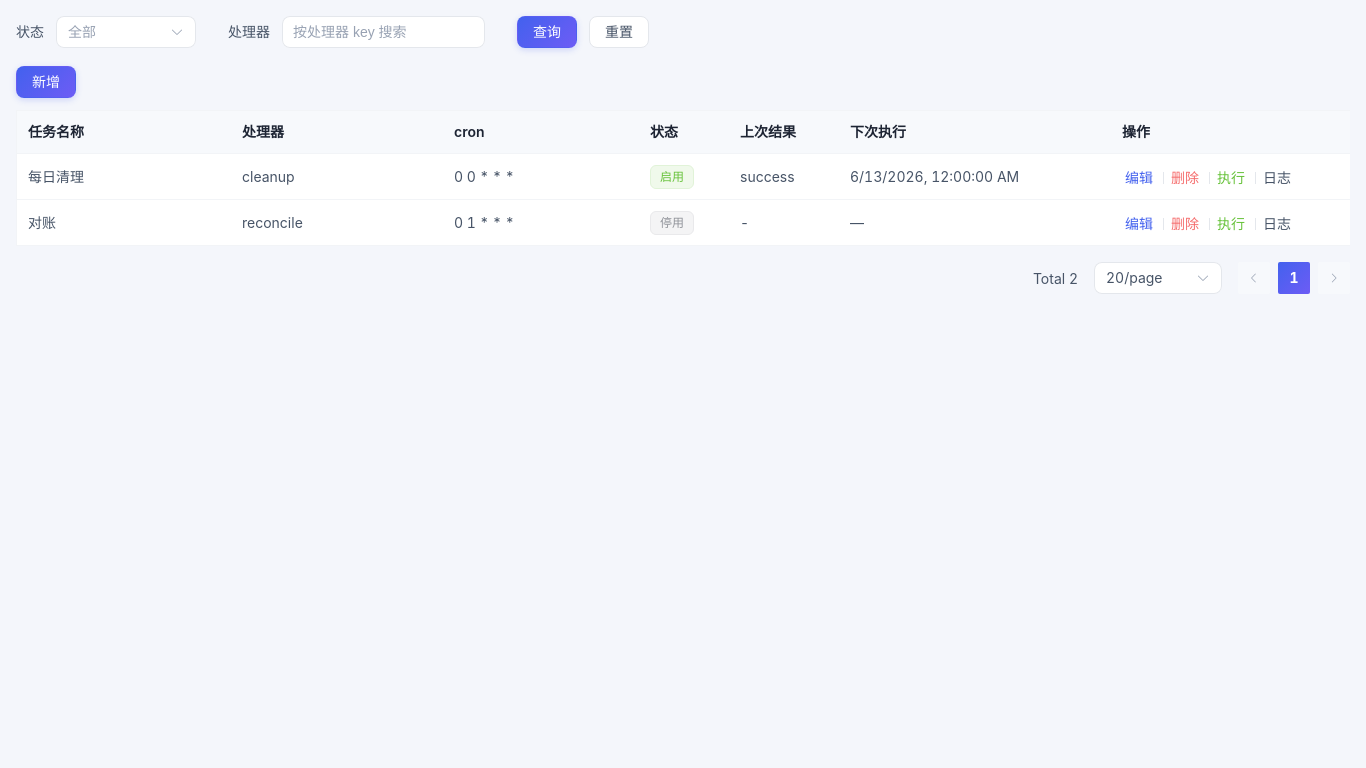
Test: 定时任务管理页 › 点日志 → 打开执行日志对话框并拉该任务日志
Step 1. Click the button "日志" in the row of "每日清理" → (1277, 178), box left=1260, top=168, right=1294, bottom=188
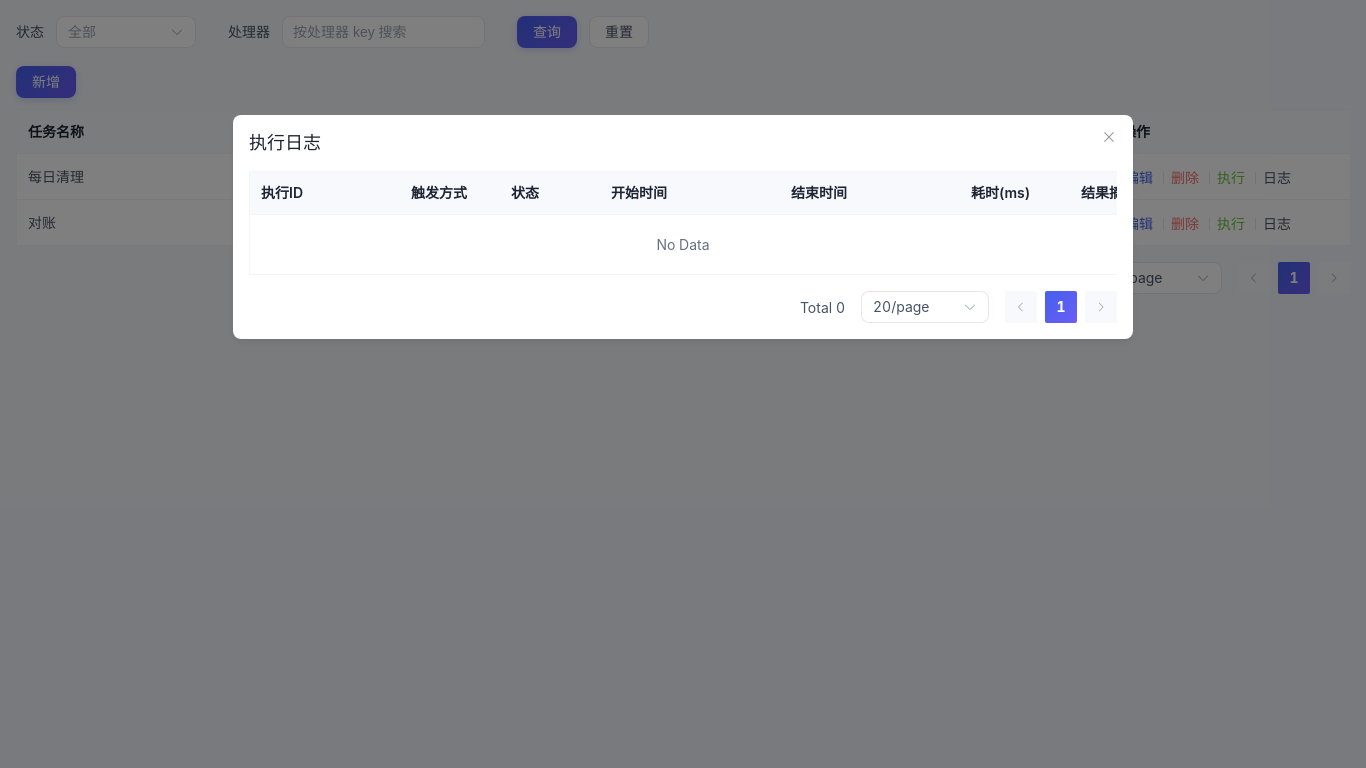
Check: the text "执行日志" is shown, box left=249, top=132, right=321, bottom=153
